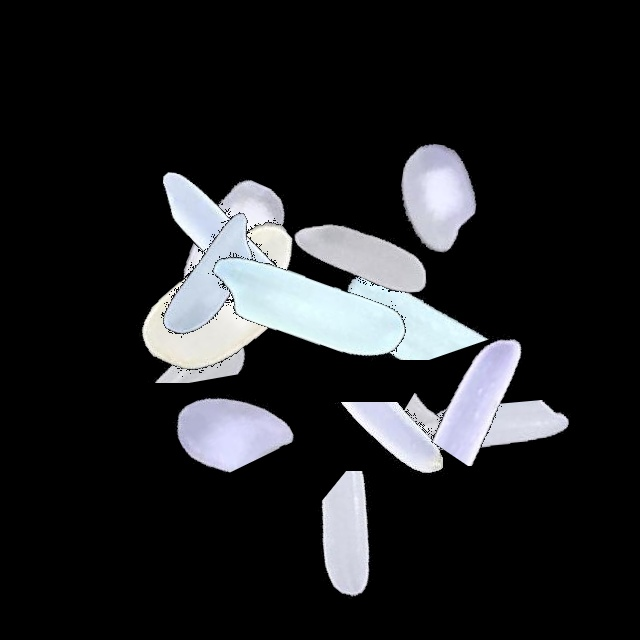Broken: (260, 471, 510, 636), (134, 265, 295, 515), (291, 211, 541, 360), (365, 318, 615, 466), (428, 350, 571, 600), (52, 257, 302, 383), (249, 402, 499, 518), (386, 329, 487, 579)
Full: (112, 116, 362, 366), (102, 175, 352, 425), (107, 117, 357, 367), (312, 71, 562, 321), (83, 149, 333, 399), (234, 135, 484, 385), (182, 185, 432, 435)
